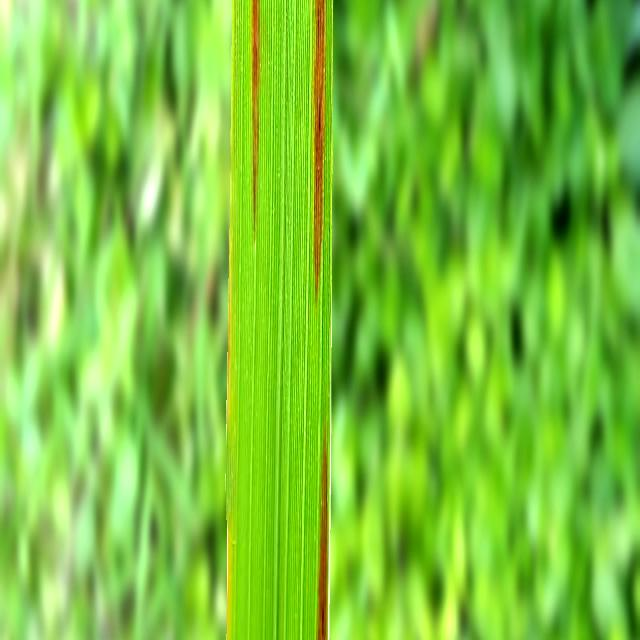NBS: (313, 0, 326, 298), (317, 437, 328, 640), (252, 0, 259, 230)
